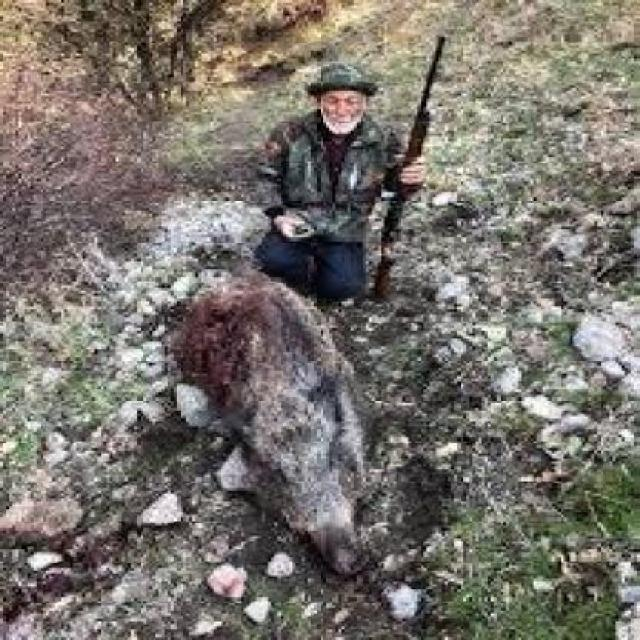wildboar: (131, 250, 412, 598)
